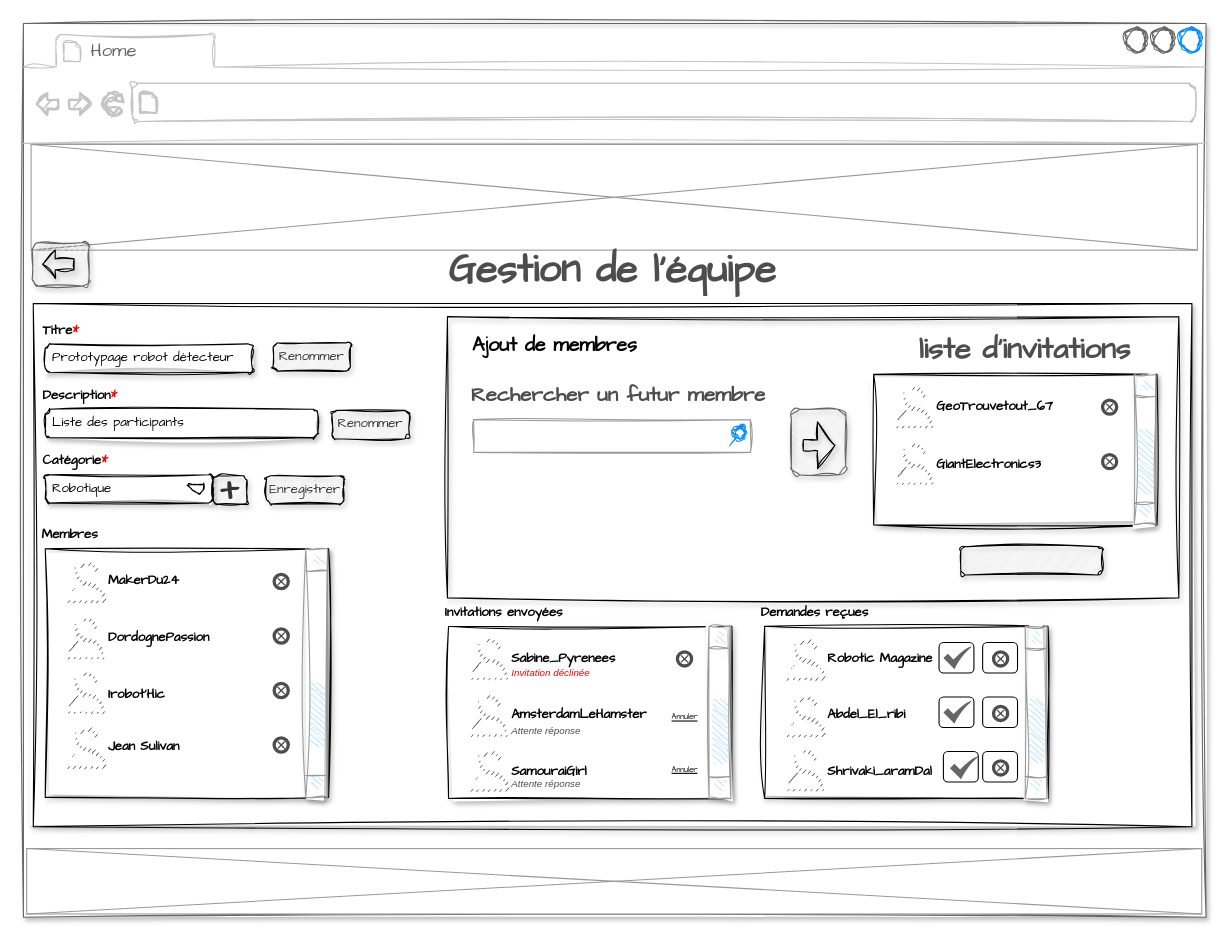
This 1232x944 diagram has some shape labels left out. The centre of each missing label's shape, as x and y in pixels:
"FOOTER" belongs at pixel 614 880.
"https://www.inote.fr/teams/manage-team" belongs at pixel 302 104.
"NAVBAR" belongs at pixel 613 196.
"Poster ma liste" belongs at pixel 1032 562.
